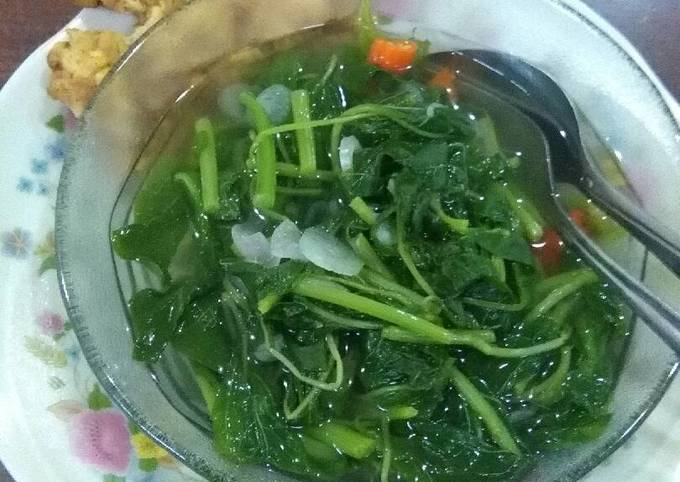Sayur Bayam: (144, 59, 621, 458)
